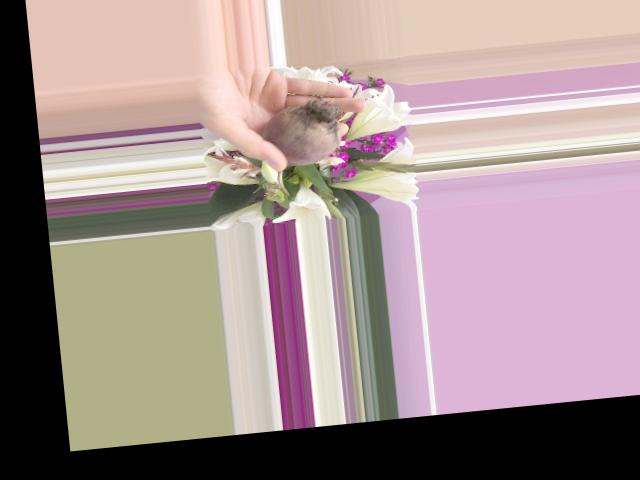beet: (261, 99, 348, 197)
